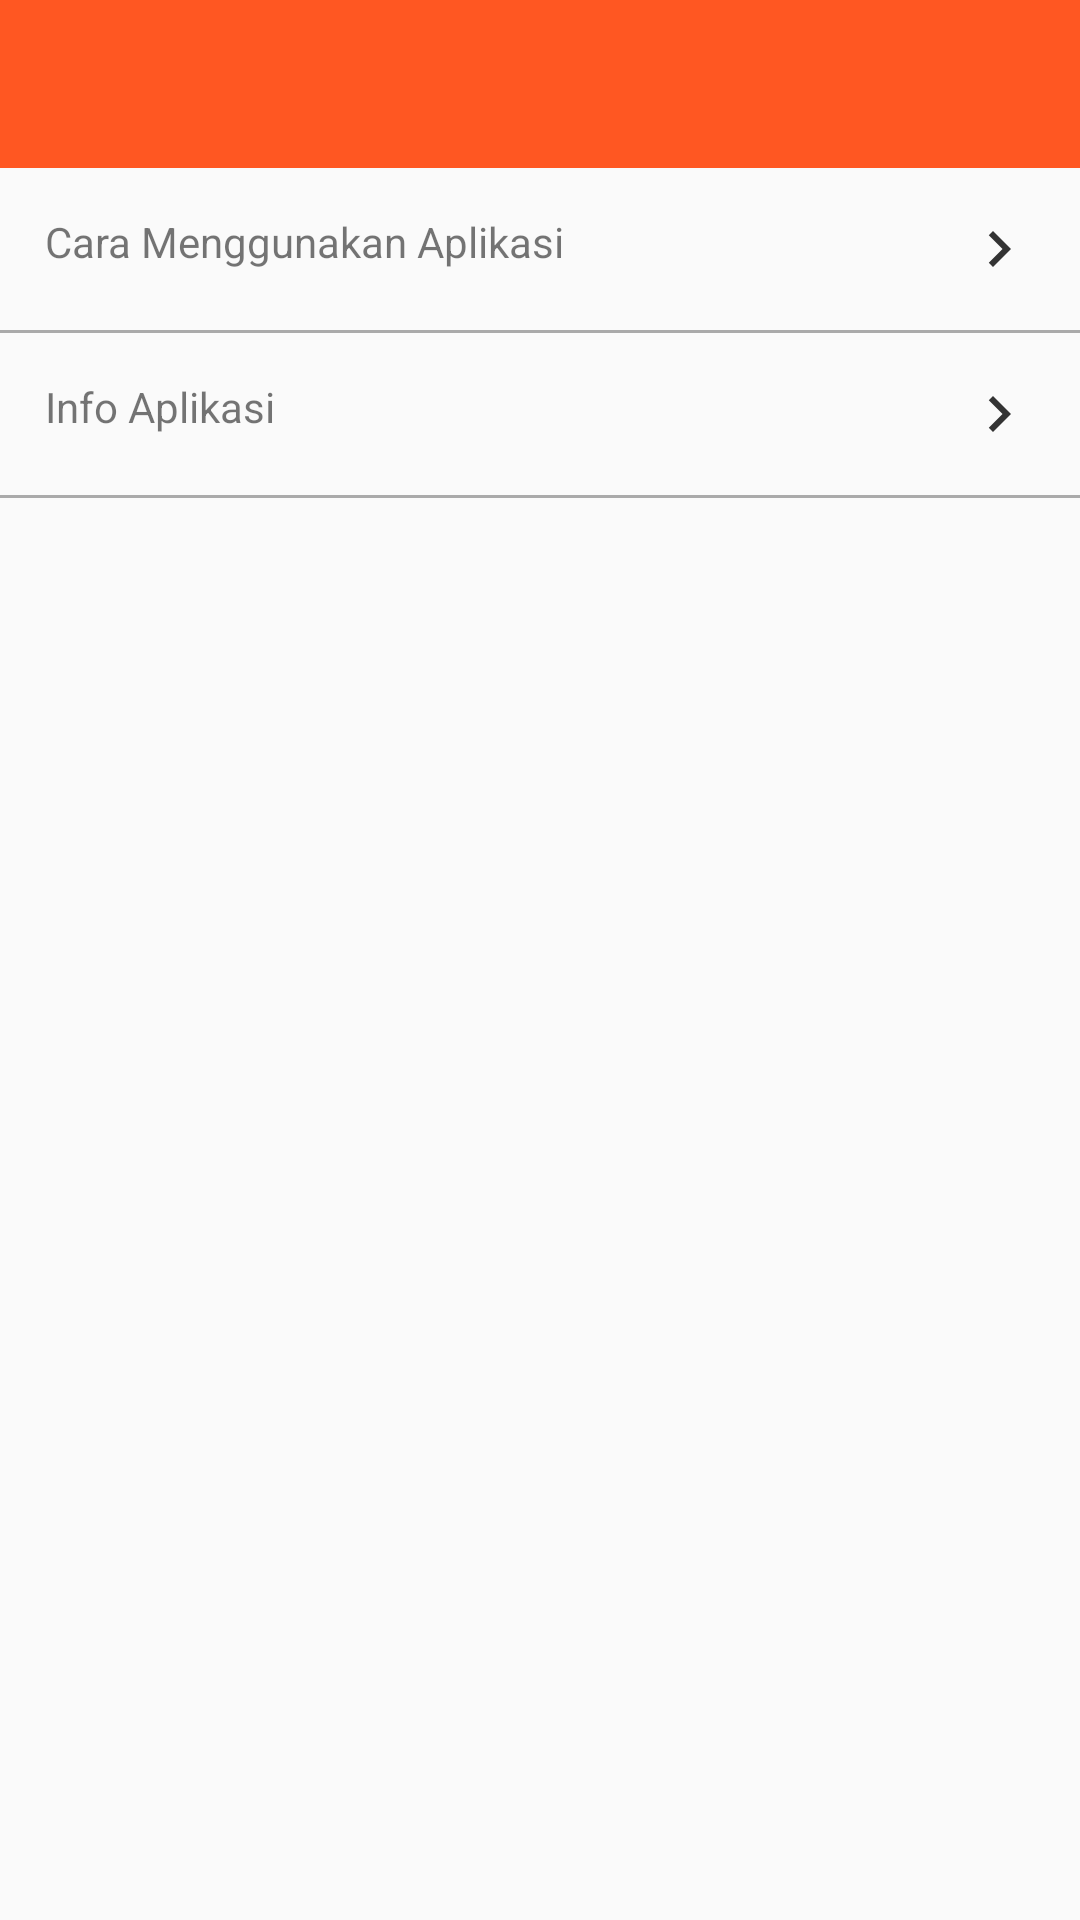

Point at icon controls on the screen. Image size 1080px x 1920px, points as (x=x, y=y).
arrow right: (x=1000, y=249), (x=1000, y=414)
